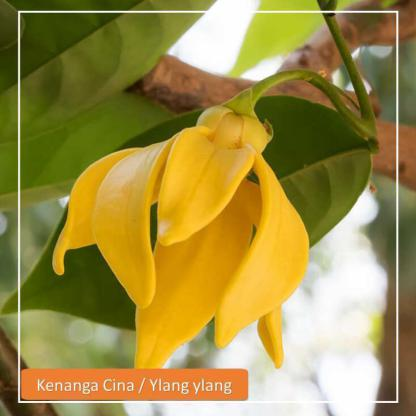Kenanga: (99, 73, 299, 359)
